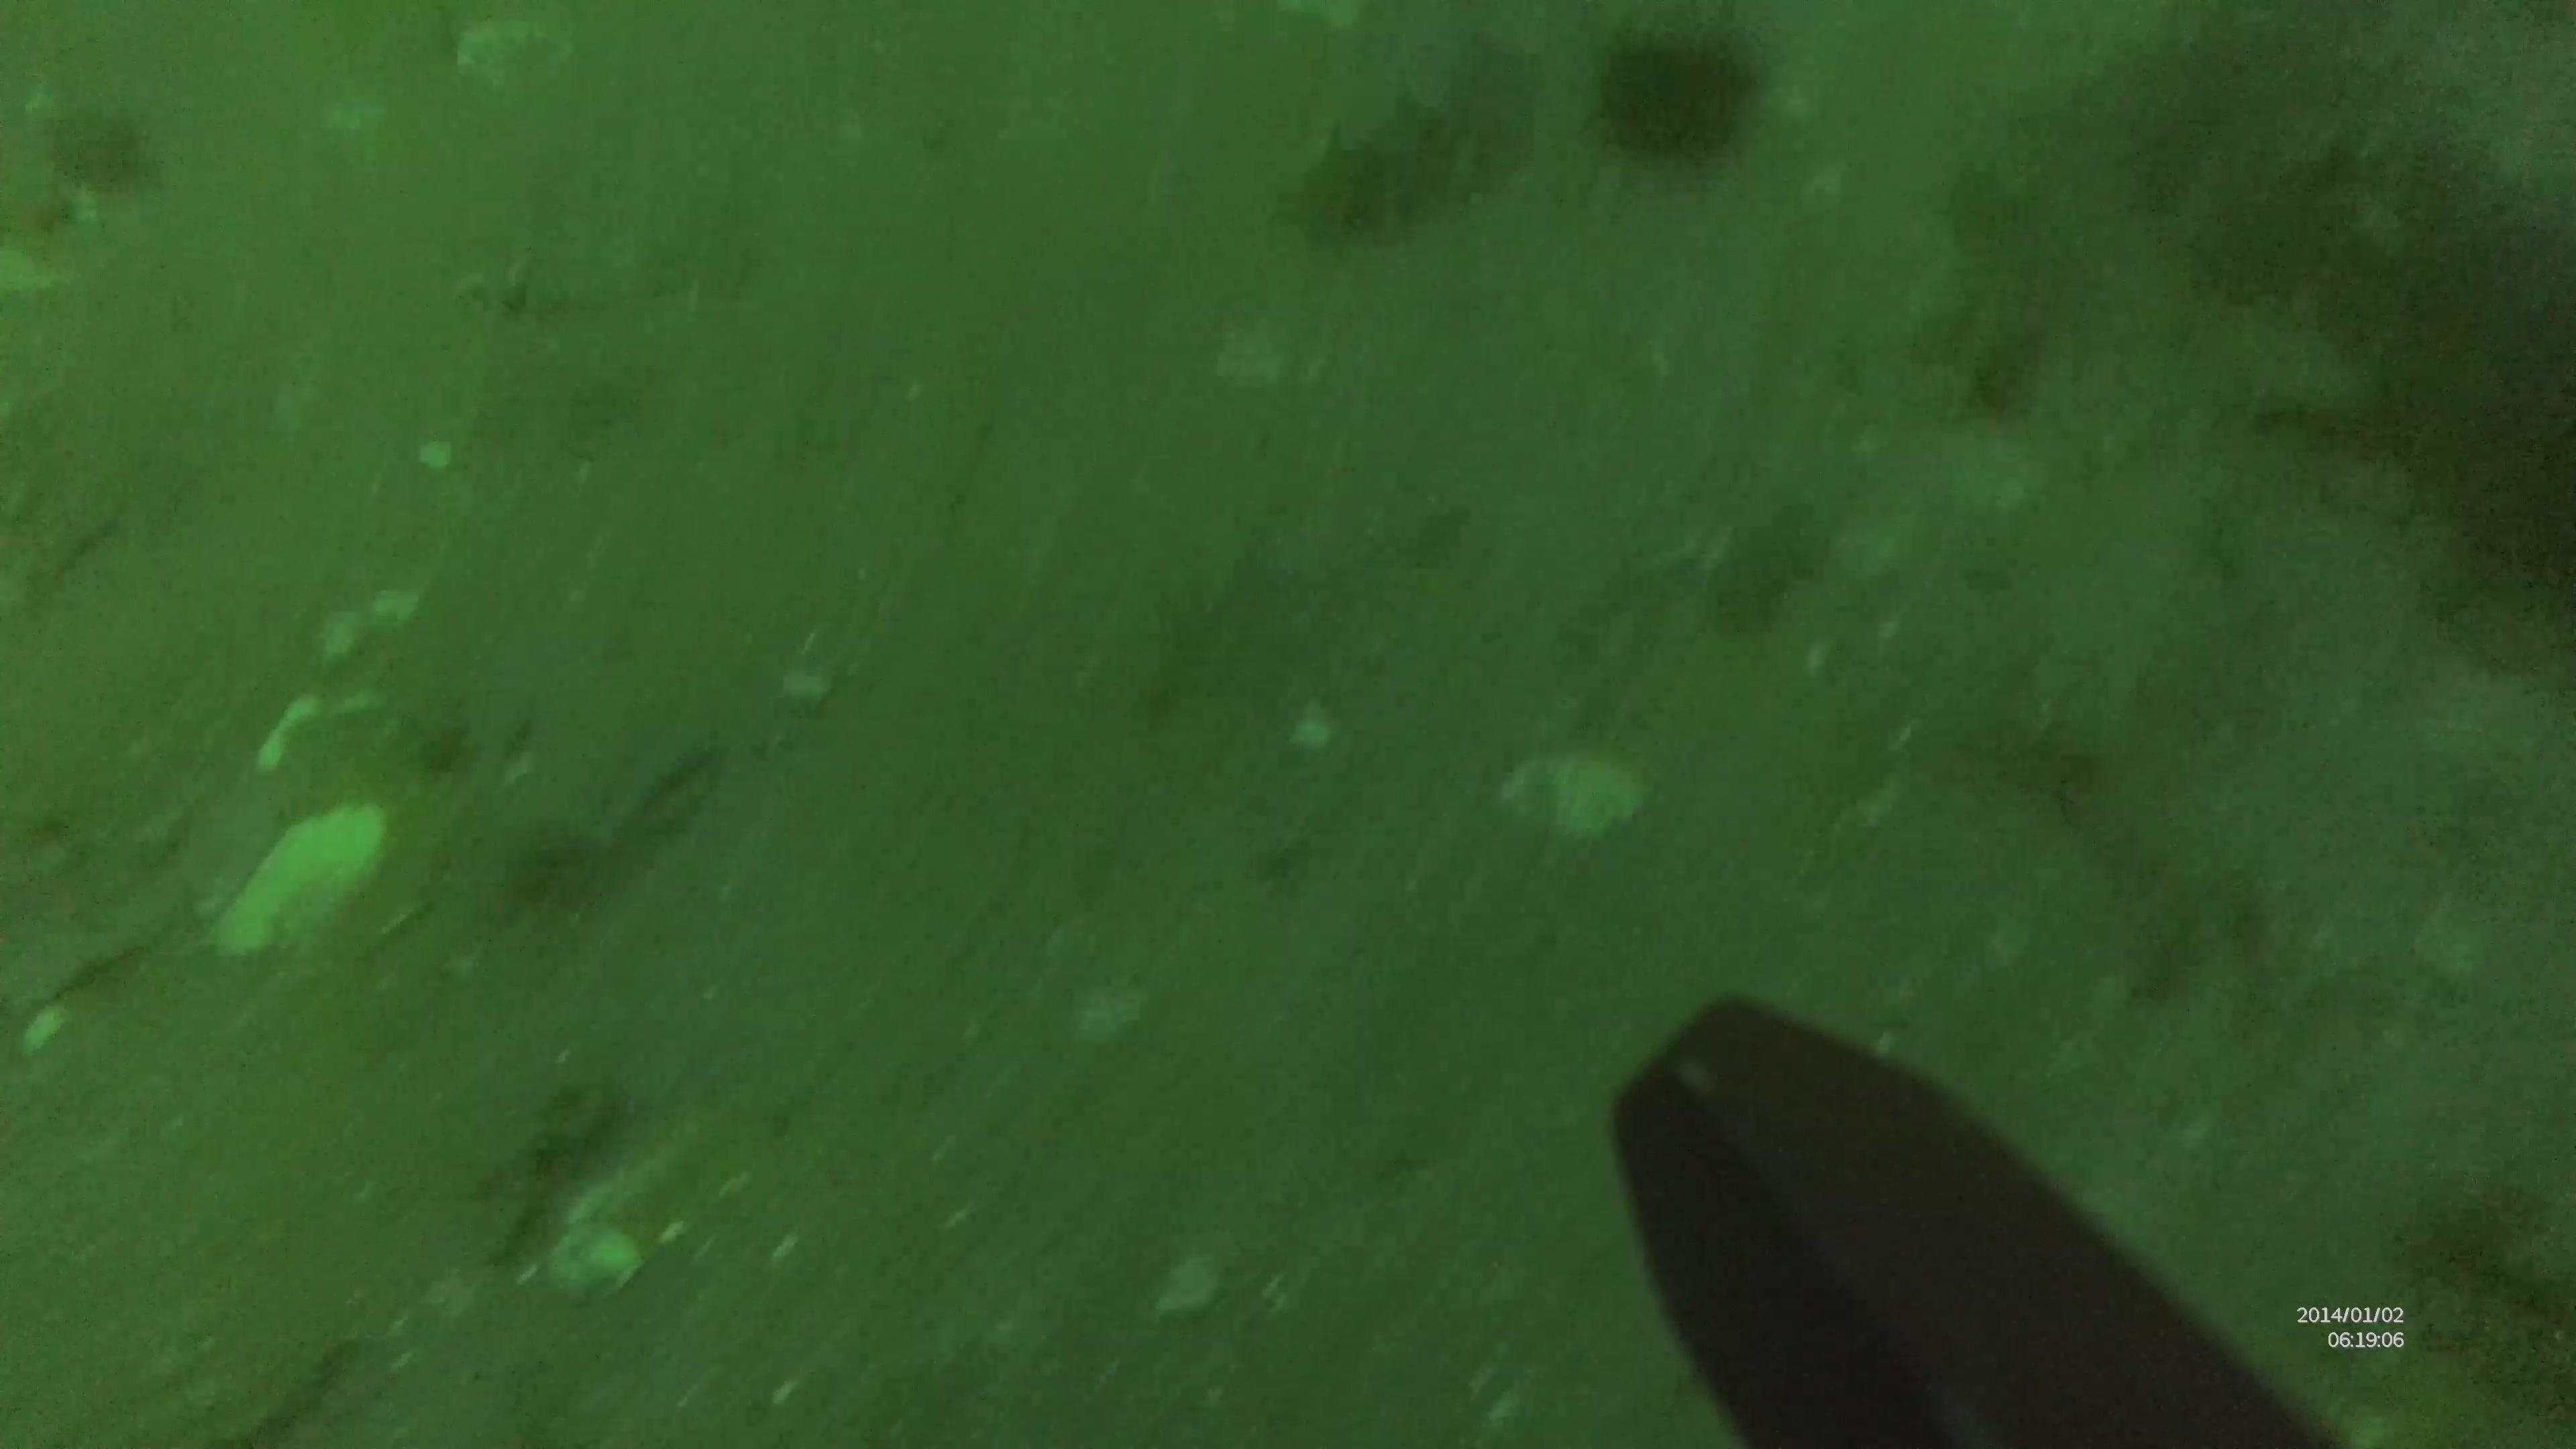echinus: (1585, 18, 1767, 175)
holothurian: (1279, 71, 1534, 248)
